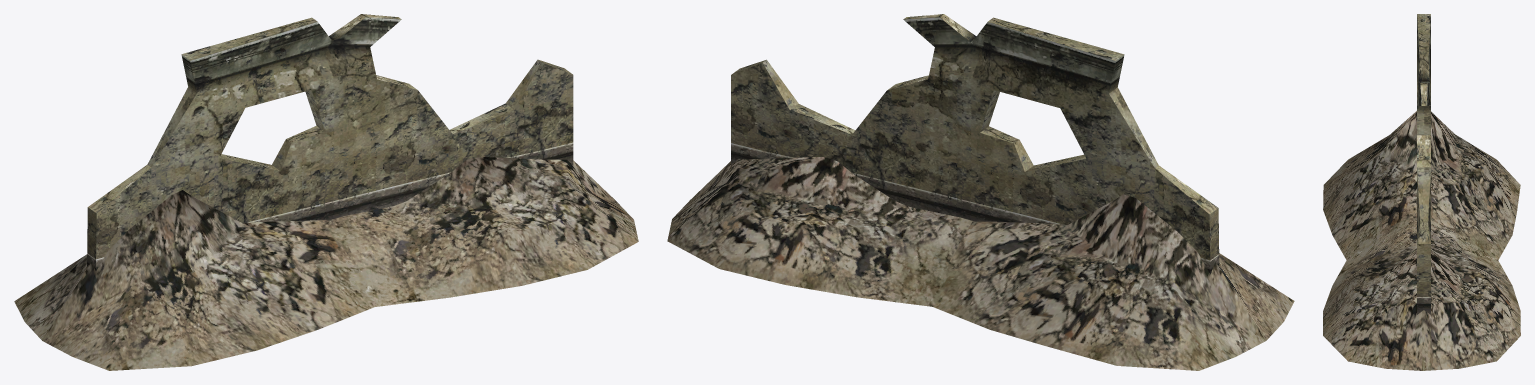
The model's file is Rbl_S2.glb.
3 views of the same model, side by side, from view 1: azimuth 30°, elevation 25°; view 2: azimuth 150°, elevation 25°; view 3: azimuth 270°, elevation 25° (orthographic). The views are drawn at different scales.
Visible parts, largest first — view 1: _Rbl_S2; view 2: _Rbl_S2; view 3: _Rbl_S2.
Part boxes in pixels (box(x1,y1,x2,y2)): _Rbl_S2: box(14, 14, 638, 370); _Rbl_S2: box(667, 14, 1294, 370); _Rbl_S2: box(1323, 14, 1520, 370).
Bounding box in the file's own units: 9.29 × 3.93 × 3.55.
Materials: 2 (2 with a texture image).
